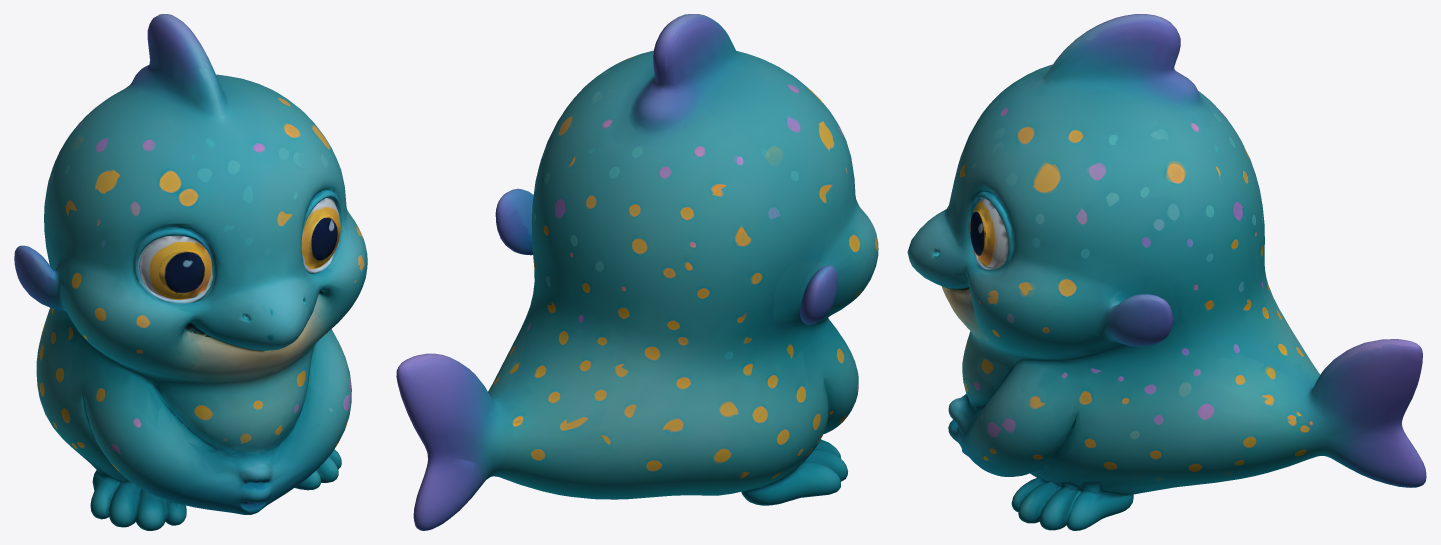
Rendered from ShortGunGuy.fbx.
3 views of the same model, side by side, from view 1: azimuth 30°, elevation 25°; view 2: azimuth 150°, elevation 25°; view 3: azimuth 270°, elevation 25° (orthographic). The views are drawn at different scales.
Parts seen in each view (by area): view 1: texture_pbr_v128; view 2: texture_pbr_v128; view 3: texture_pbr_v128.
Boxes of the visible parts, left/top/right/bottom form: texture_pbr_v128: left=14, top=14, right=367, bottom=530; texture_pbr_v128: left=396, top=14, right=878, bottom=530; texture_pbr_v128: left=907, top=14, right=1426, bottom=530.
Size of the model in its own units: 17.92 by 24.67 by 25.52.
Materials: 1 (1 with a texture image).
